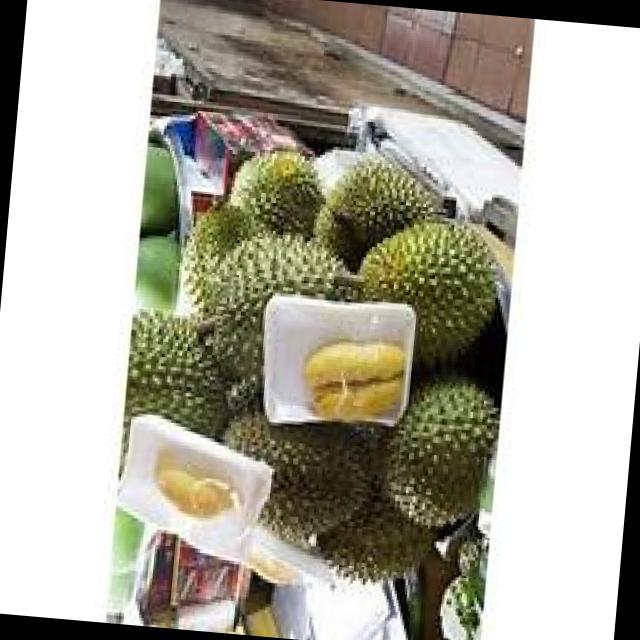fruit: (328, 192, 510, 388), (121, 288, 259, 450), (221, 127, 346, 257)
